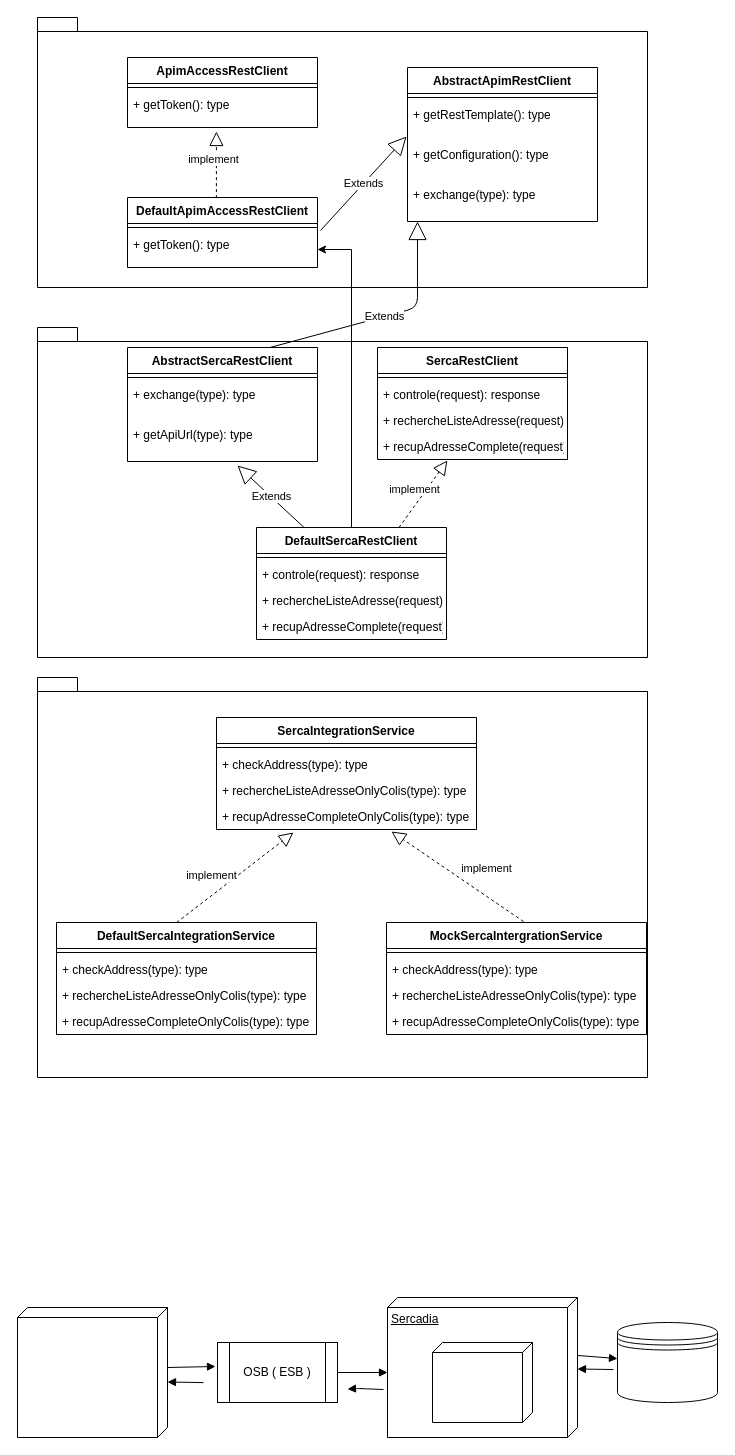
The diagram is 735 pixels wide and 1455 high, and some of its shapes have lost their labels. Each missing label, with the centre of its shape:
Eboutique: (x=92, y=1372)
Mascadia: (x=482, y=1382)
Référentiel d'adresses: (x=667, y=1362)
